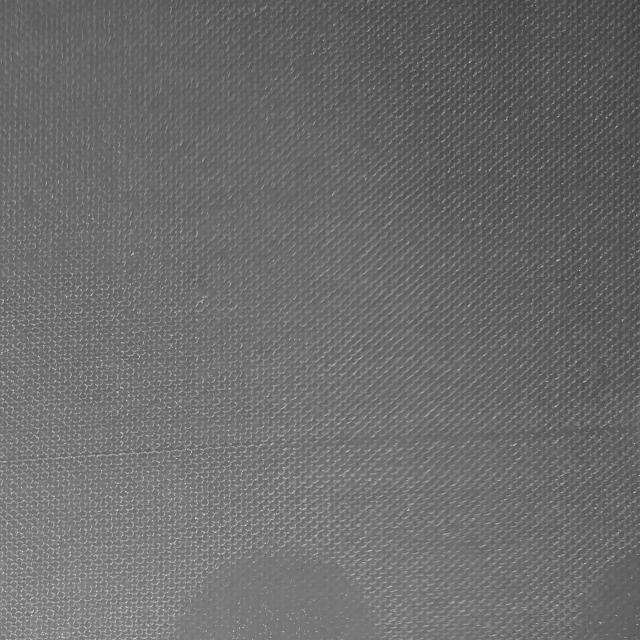Stain: (174, 549, 387, 640), (573, 543, 640, 640)
